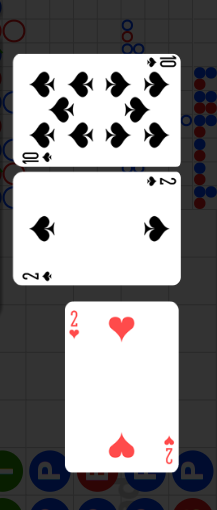10S: (144, 55, 177, 69)
2H: (162, 434, 174, 465)
2S: (144, 175, 177, 188)
